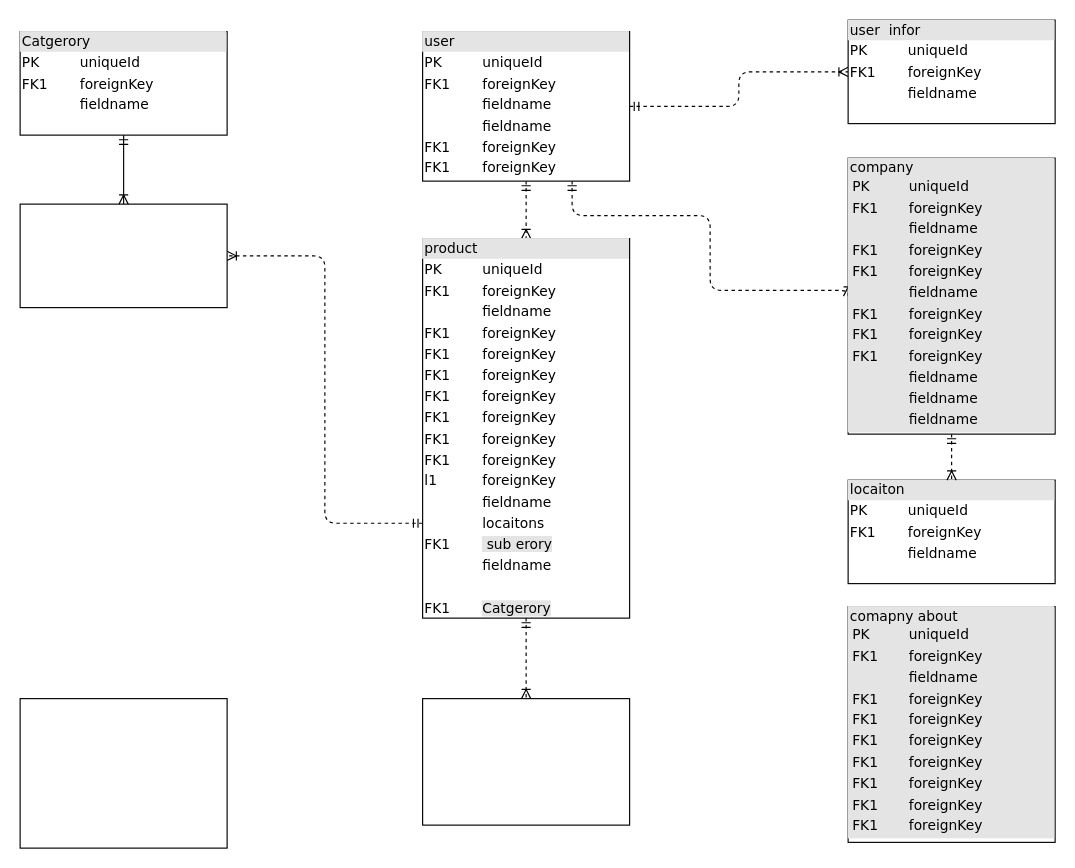
The diagram is 1075 pixels wide and 868 high, and some of its shapes have lost their labels. The centre of each missing label's shape, as x and y in pixels:
"sub breed PK uniqueId FK1 foreignKey fieldname" belongs at point 123,255.
"Tablename PK uniqueId FK1 foreignKey fieldname fieldname fieldname fieldname" belongs at point 123,772.
"Tablename PK uniqueId FK1 foreignKey fieldname fieldname FK1 foreignKey" belongs at point 525,761.
